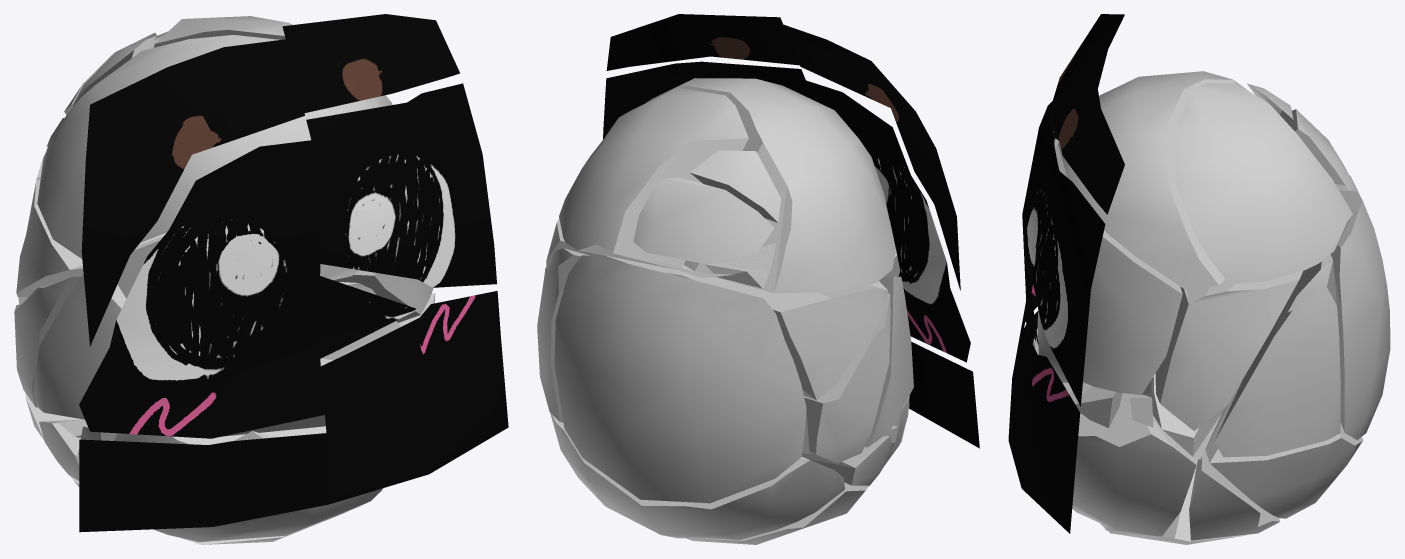
The model's file is SM_bean_fracture.fbx.
3 renders of one model, left to right at view 1: azimuth 30°, elevation 25°; view 2: azimuth 150°, elevation 25°; view 3: azimuth 270°, elevation 25°, orthographic. The views are drawn at different scales.
Visible parts, largest first — view 1: bean_low1_cell.003, bean_low1.001_cell.001, bean_low1_cell.001, bean_low1.001_cell.004, bean_low1_cell, bean_low_cell.005, bean_low1.001_cell.002, bean_low_cell.013, bean_low_cell.023, bean_low1.001_cell, bean_low_cell.029, bean_low_cell.021 (+6 smaller); view 2: bean_low_cell.026, bean_low_cell.005, bean_low_cell.015, bean_low1_cell.003, bean_low_cell.001, bean_low_cell.029, bean_low_cell.022_cell.003, bean_low1.001_cell.002, bean_low1_cell.001, bean_low_cell.021, bean_low1.001_cell.001, bean_low1_cell (+7 smaller); view 3: bean_low_cell.015, bean_low_cell.005, bean_low_cell, bean_low1.001_cell.001, bean_low_cell.029, bean_low_cell.027, bean_low_cell.028, bean_low_cell.026, bean_low1.001_cell.004, bean_low_cell.001, bean_low1.001_cell.002, bean_low_cell.010 (+10 smaller).
Boxes of the visible parts, bbox=[...] form: bean_low1_cell.003: bbox=[79, 140, 324, 438]; bean_low1.001_cell.001: bbox=[306, 83, 496, 287]; bean_low1_cell.001: bbox=[81, 39, 304, 346]; bean_low1.001_cell.004: bbox=[321, 291, 508, 504]; bean_low1_cell: bbox=[79, 433, 328, 532]; bean_low_cell.005: bbox=[37, 35, 392, 258]; bean_low1.001_cell.002: bbox=[282, 14, 459, 112]; bean_low_cell.013: bbox=[33, 275, 124, 419]; bean_low_cell.023: bbox=[114, 426, 382, 542]; bean_low1.001_cell: bbox=[318, 276, 418, 358]; bean_low_cell.029: bbox=[16, 179, 166, 297]; bean_low_cell.021: bbox=[14, 276, 81, 407]; bean_low_cell.026: bbox=[554, 255, 806, 503]; bean_low_cell.005: bbox=[645, 78, 895, 293]; bean_low_cell.015: bbox=[559, 87, 748, 269]; bean_low1_cell.003: bbox=[806, 80, 970, 362]; bean_low_cell.001: bbox=[550, 412, 844, 539]; bean_low_cell.029: bbox=[546, 219, 887, 400]; bean_low_cell.022_cell.003: bbox=[633, 178, 773, 263]; bean_low1.001_cell.002: bbox=[606, 14, 799, 70]; bean_low1_cell.001: bbox=[783, 24, 960, 290]; bean_low_cell.021: bbox=[804, 293, 890, 463]; bean_low1.001_cell.001: bbox=[603, 61, 807, 139]; bean_low1_cell: bbox=[909, 342, 979, 448]; bean_low_cell.015: bbox=[1173, 83, 1352, 284]; bean_low_cell.005: bbox=[1058, 71, 1249, 291]; bean_low_cell: bbox=[1214, 254, 1340, 457]; bean_low1.001_cell.001: bbox=[1022, 113, 1105, 406]; bean_low_cell.029: bbox=[1155, 271, 1302, 430]; bean_low_cell.027: bbox=[1072, 393, 1196, 536]; bean_low_cell.028: bbox=[1083, 231, 1182, 395]; bean_low_cell.026: bbox=[1330, 190, 1390, 439]; bean_low1.001_cell.004: bbox=[1008, 323, 1080, 533]; bean_low_cell.001: bbox=[1205, 389, 1363, 518]; bean_low1.001_cell.002: bbox=[1051, 45, 1124, 214]; bean_low_cell.010: bbox=[1189, 449, 1280, 540].
Bounding box in the file's own units: 13.12 × 15.63 × 11.36.
